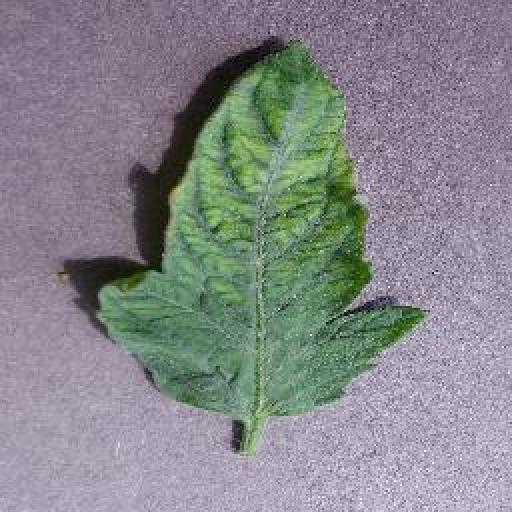disease_tomato: (93, 36, 427, 418)
